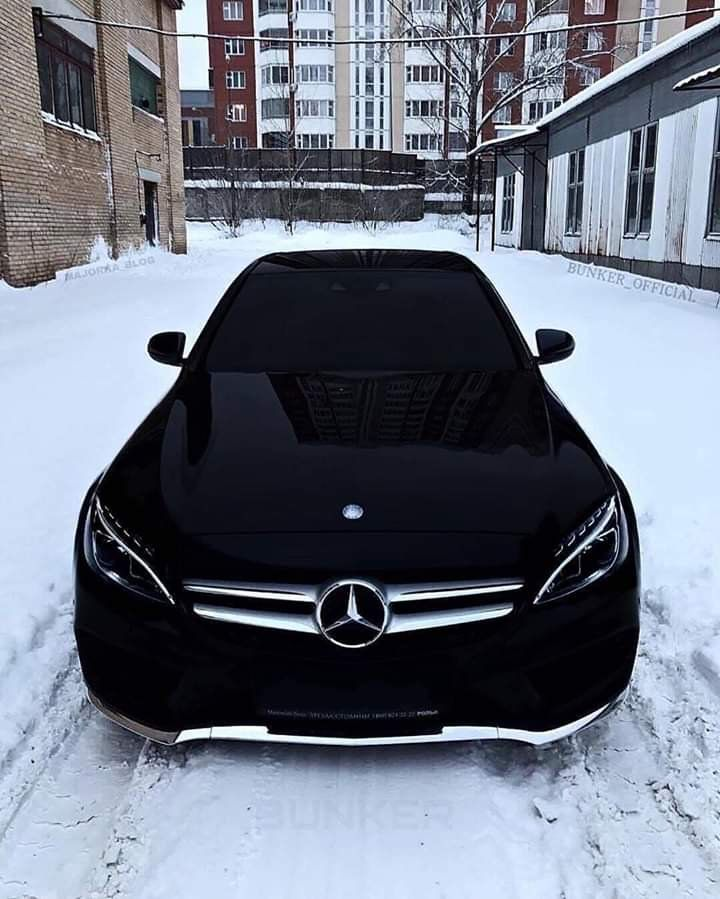ARABA: (71, 245, 644, 751)
